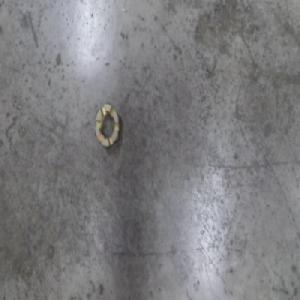Nut: (93, 100, 121, 151)
